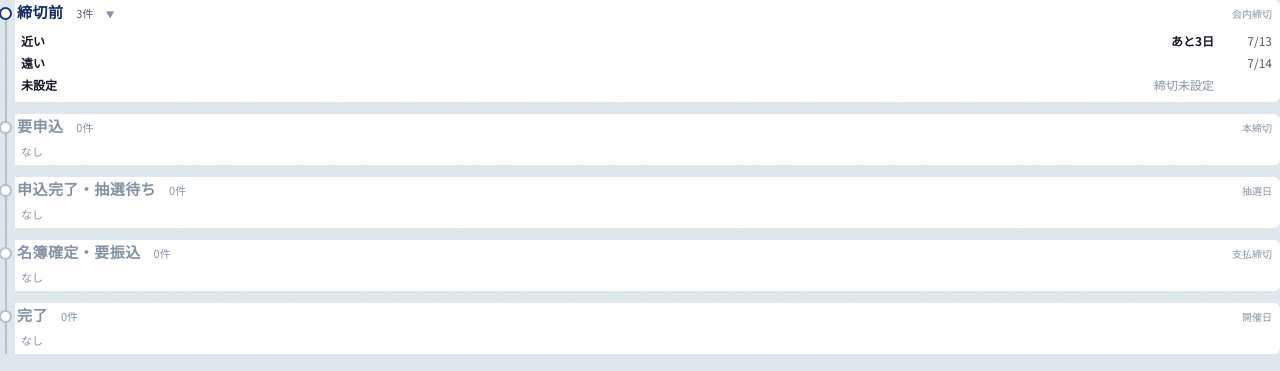
Test: EntryBoardClient › AC-24: 畳んでも会内締切 3 日以内の行は残り、隠れた行数が「ほかN件」で出る
Click the button. click: click(1252, 14)
box: [21,4,1272,28]
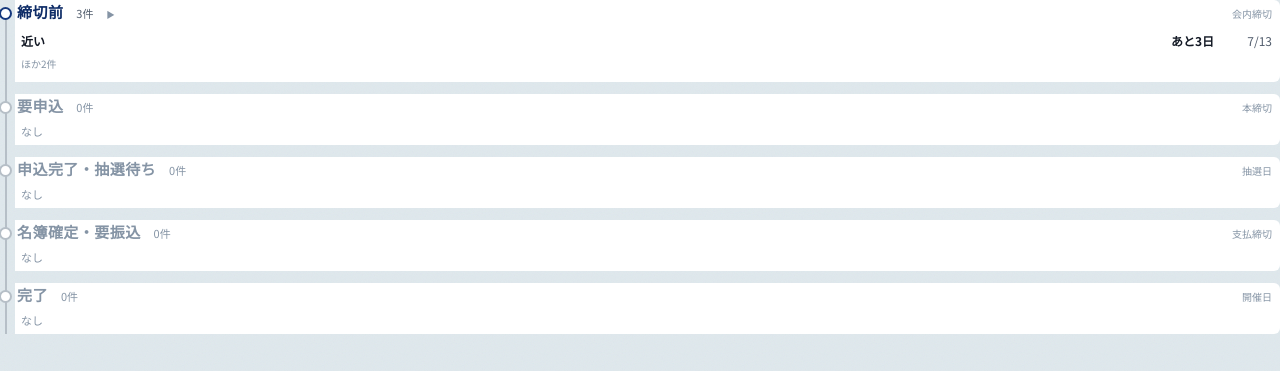
Result: the link "遠い" is gone
Result: the link "未設定" is gone
Result: the list item "ほか2件" is shown at [21,56,57,71]
